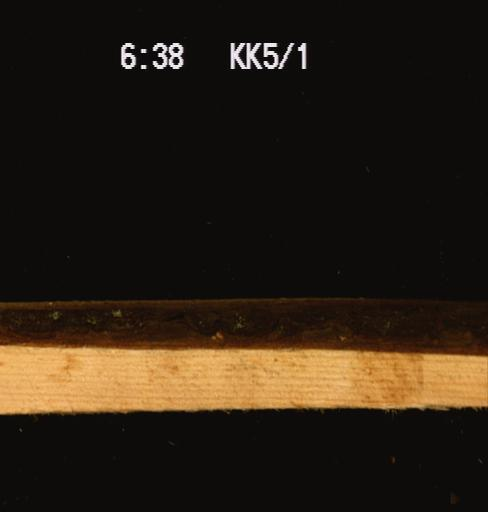wave: (0, 297, 487, 357)
